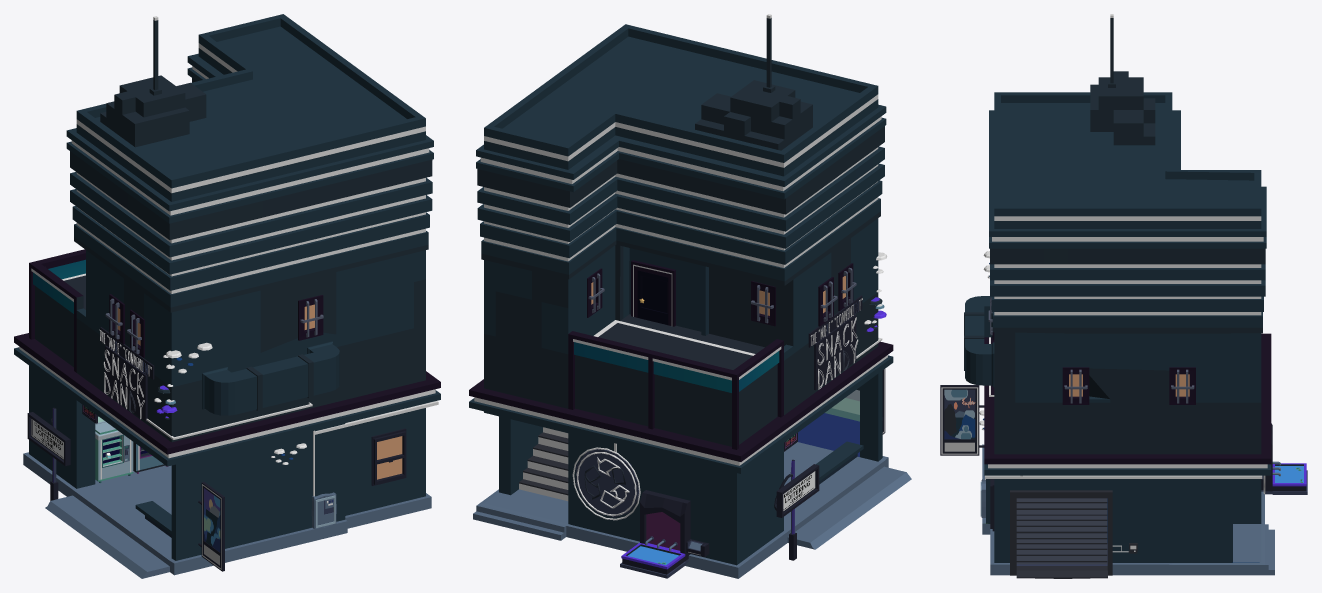
File: SnackDandy.fbx
3 views of the same model, side by side, from view 1: azimuth 30°, elevation 25°; view 2: azimuth 150°, elevation 25°; view 3: azimuth 270°, elevation 25° (orthographic). The views are drawn at different scales.
Visible parts, largest first — view 1: CubeHome.005, Plane.008, Basic Vending Machine, Cube.1171, Cube.1170, Apartment 04.007, Text.048, Apartment 04.008, Plane.009, Cube.1177; view 2: CubeHome.005, Cube.002, Cylinder.056, Plane.008, Cube.1170, Text.047, Square Door Blue.002, Text.048, Plane.009; view 3: CubeHome.005, Cube.1169, Cube.1168, Cube.1171, Cube.002, Apartment 04.007.
Boxes of the visible parts, x1,y1,x2,y2 form: CubeHome.005: (14,14,440,578); Plane.008: (105,345,147,421); Basic Vending Machine: (95,421,133,482); Cube.1171: (198,482,224,571); Cube.1170: (27,407,70,500); Apartment 04.007: (146,401,438,496); Text.048: (103,349,144,419); Apartment 04.008: (311,492,336,528); Plane.009: (100,327,154,379); Cube.1177: (133,442,167,473); CubeHome.005: (469,14,911,578); Cube.002: (620,490,709,578); Cylinder.056: (576,449,638,517); Plane.008: (814,315,856,390); Cube.1170: (774,459,819,560); Text.047: (572,447,640,520); Square Door Blue.002: (637,270,668,324); Text.048: (817,317,858,389); Plane.009: (808,295,862,347); CubeHome.005: (964,14,1274,575); Cube.1169: (1016,498,1107,564); Cube.1168: (1010,490,1112,578); Cube.1171: (940,385,984,455); Cube.002: (1265,423,1307,494); Apartment 04.007: (985,337,1262,479).
Bounding box in the file's own units: 865 × 1403 × 989.
